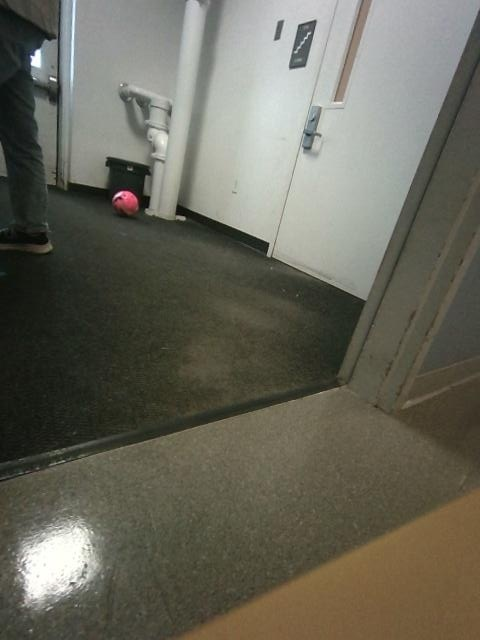ball: (112, 191, 138, 216)
